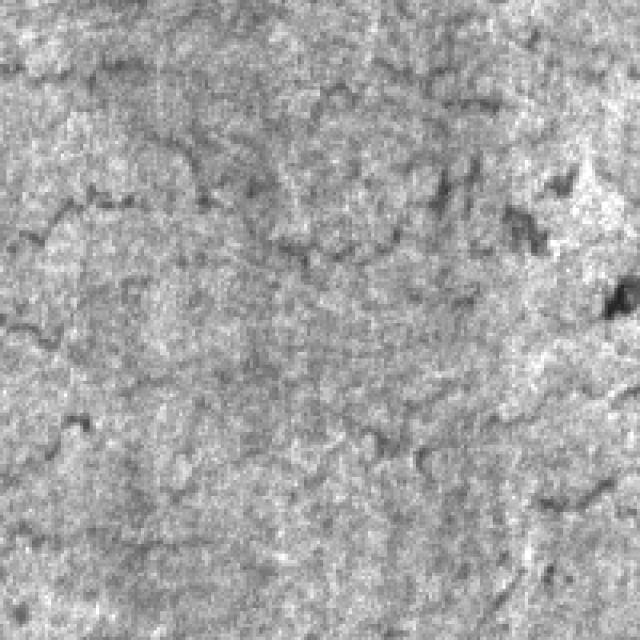crazing: (0, 10, 579, 227), (0, 307, 496, 554), (0, 134, 490, 356), (403, 374, 637, 518)
